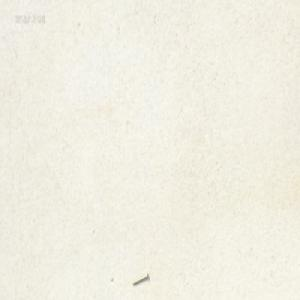Bolt: (131, 273, 148, 287)
